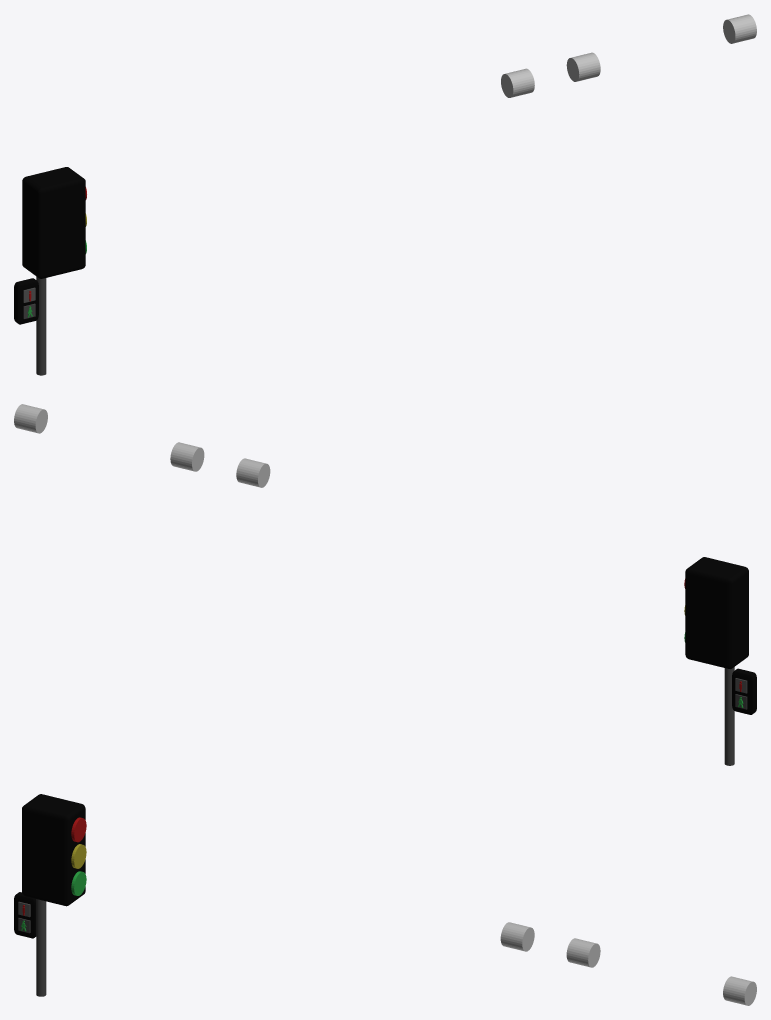
3 renders of one model, top to bottom at view 1: azimuth 30°, elevation 25°; view 2: azimuth 150°, elevation 25°; view 3: azimuth 330°, elevation 25°, orthographic.
Parts seen in each view (by area): view 1: Cube, 円柱.006, 円柱.003, 円柱.001, 円柱.002, 立方体; view 2: Cube, 円柱.006, 円柱.002, 円柱.003, 円柱.001, 立方体; view 3: Cube, 円柱.006, 円柱.002, 円柱.003, 円柱.001, 立方体.
Part boxes in pixels (left/top/right/bottom): Cube: left=22, top=167, right=85, bottom=278; 円柱.006: left=36, top=276, right=46, bottom=375; 円柱.003: left=501, top=68, right=534, bottom=97; 円柱.001: left=723, top=14, right=756, bottom=43; 円柱.002: left=566, top=52, right=600, bottom=81; 立方体: left=14, top=278, right=38, bottom=324; Cube: left=685, top=557, right=748, bottom=668; 円柱.006: left=724, top=667, right=734, bottom=765; 円柱.002: left=170, top=442, right=204, bottom=471; 円柱.003: left=236, top=458, right=270, bottom=487; 円柱.001: left=14, top=404, right=47, bottom=433; 立方体: left=732, top=668, right=756, bottom=714; Cube: left=22, top=794, right=85, bottom=906; 円柱.006: left=36, top=899, right=46, bottom=996; 円柱.002: left=566, top=938, right=600, bottom=967; 円柱.003: left=500, top=922, right=534, bottom=951; 円柱.001: left=723, top=976, right=756, bottom=1005; 立方体: left=14, top=892, right=36, bottom=938.
Size of the model in its own units: 28.99 by 7.27 by 1.25.
